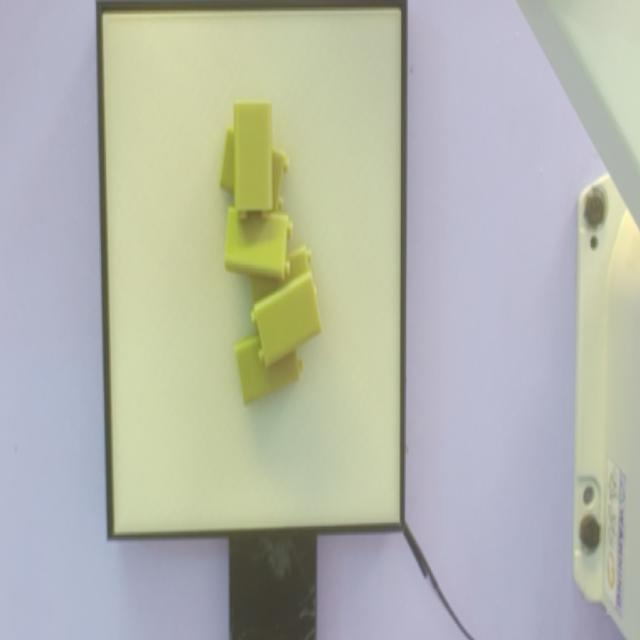bateria: (252, 273, 323, 368), (233, 101, 273, 219)
mesa: (97, 0, 407, 543)
